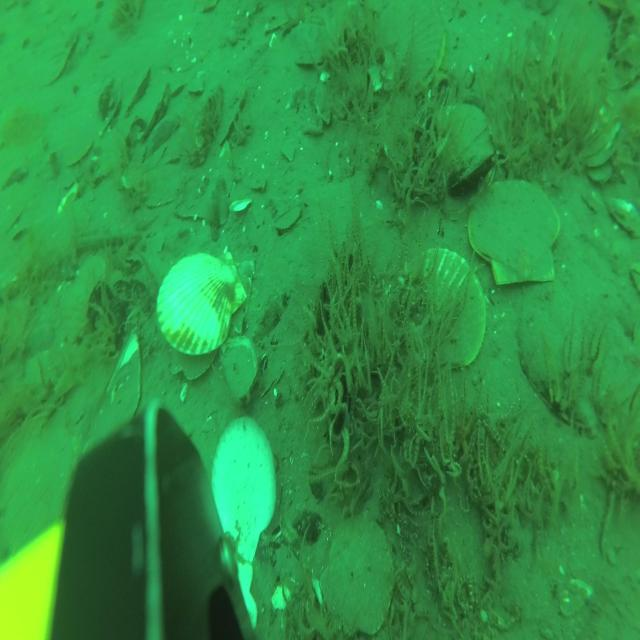scallop: (156, 253, 252, 373), (400, 250, 487, 369), (468, 182, 562, 290), (210, 415, 277, 555), (323, 514, 396, 634), (374, 3, 446, 102), (430, 101, 494, 187), (550, 0, 611, 81), (50, 107, 96, 169), (274, 202, 302, 236)
